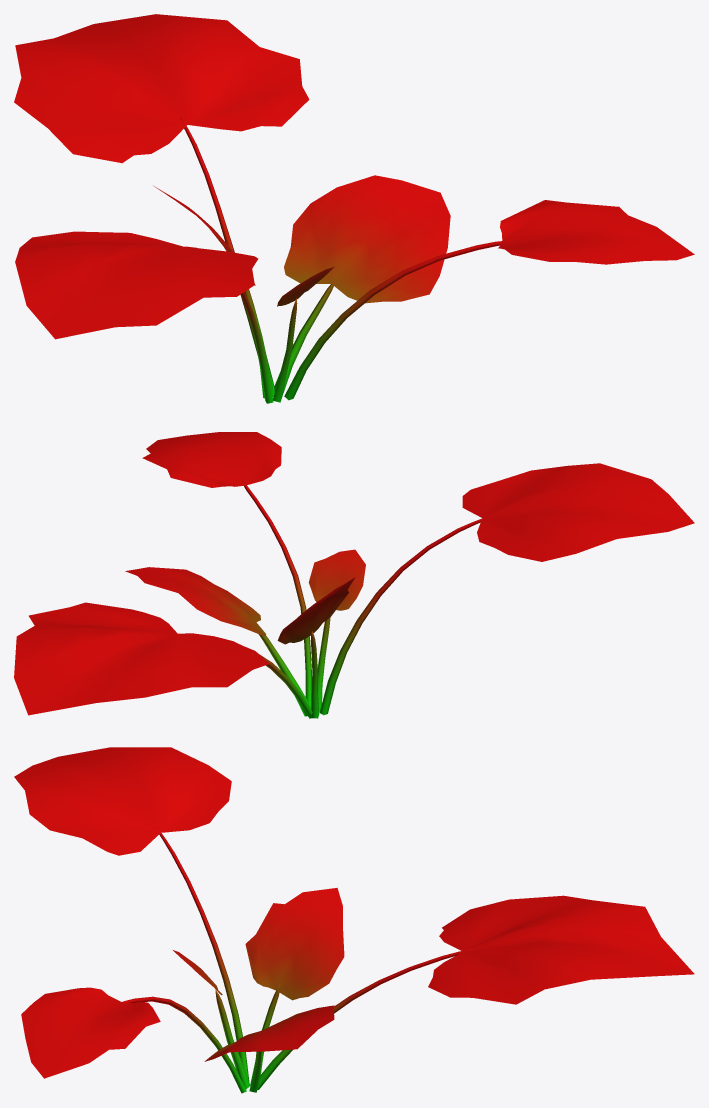
The model's file is Coltsfoot_LOD1_Var2_xbtkdfvqx.fbx.
3 renders of one model, top to bottom at view 1: azimuth 30°, elevation 25°; view 2: azimuth 150°, elevation 25°; view 3: azimuth 270°, elevation 25°, orthographic. The views are drawn at different scales.
Visible parts, largest first — view 1: _t7b5_Var2_LOD1; view 2: _t7b5_Var2_LOD1; view 3: _t7b5_Var2_LOD1.
Boxes of the visible parts, left/top/right/bottom form: _t7b5_Var2_LOD1: left=14, top=14, right=694, bottom=403; _t7b5_Var2_LOD1: left=14, top=432, right=694, bottom=718; _t7b5_Var2_LOD1: left=14, top=747, right=694, bottom=1093.
Size of the model in its own units: 24.42 by 9.23 by 26.33.
